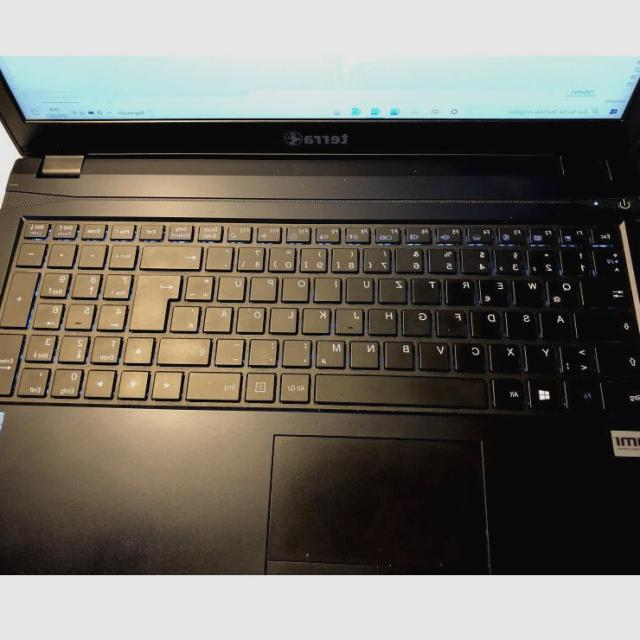0: (272, 243, 300, 269)
1: (563, 247, 593, 273)
2: (530, 246, 560, 273)
3: (497, 246, 527, 272)
4: (464, 245, 494, 271)
5: (432, 244, 460, 271)
6: (399, 244, 427, 270)
7: (366, 244, 394, 270)
8: (335, 244, 363, 270)
9: (304, 244, 331, 270)
a: (543, 308, 574, 338)
accent: (209, 242, 237, 268)
ae: (207, 303, 237, 331)
alt-left: (496, 375, 529, 407)
altgr-right: (282, 370, 313, 401)
b: (388, 337, 419, 367)
c: (457, 339, 490, 369)
caret: (597, 246, 629, 274)
comma: (286, 336, 316, 364)
d: (474, 306, 504, 336)
del: (144, 242, 206, 268)
e: (482, 276, 513, 304)
enter: (132, 270, 186, 329)
f: (440, 307, 470, 335)
g: (406, 305, 436, 333)
h: (371, 305, 401, 333)
hash: (174, 302, 204, 330)
i: (317, 274, 345, 300)
j: (339, 305, 367, 333)
k: (306, 304, 334, 332)
keyboard: (0, 206, 640, 424)
l: (273, 304, 301, 332)
less: (563, 343, 594, 373)
m: (320, 336, 350, 366)
minus: (218, 335, 248, 363)
n: (353, 337, 383, 367)
o: (285, 274, 313, 300)
oe: (240, 303, 270, 331)
p: (253, 273, 281, 300)
plus: (189, 272, 217, 299)
point: (252, 336, 282, 364)
q: (549, 276, 581, 304)
r: (448, 275, 479, 303)
s: (509, 307, 540, 337)
shift-left: (598, 342, 640, 375)
shift-lock: (577, 308, 639, 338)
shift-right: (161, 334, 215, 362)
space: (319, 371, 492, 405)
ss: (241, 243, 269, 268)
strg-left: (602, 378, 640, 411)
strg-right: (189, 368, 246, 399)
t: (416, 274, 444, 302)
tab: (584, 275, 634, 305)
u: (348, 274, 378, 301)
ue: (221, 273, 249, 300)
v: (422, 338, 453, 368)
w: (516, 276, 547, 304)
x: (492, 340, 523, 370)
y: (528, 342, 559, 372)
z: (382, 274, 410, 301)
